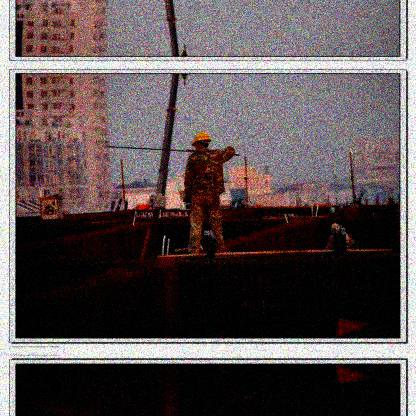helmet: (191, 131, 211, 153)
